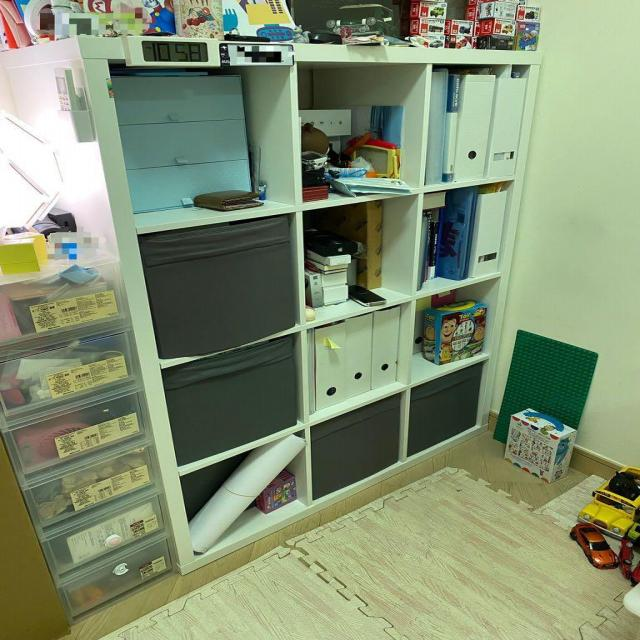Shelf: (4, 46, 548, 583)
